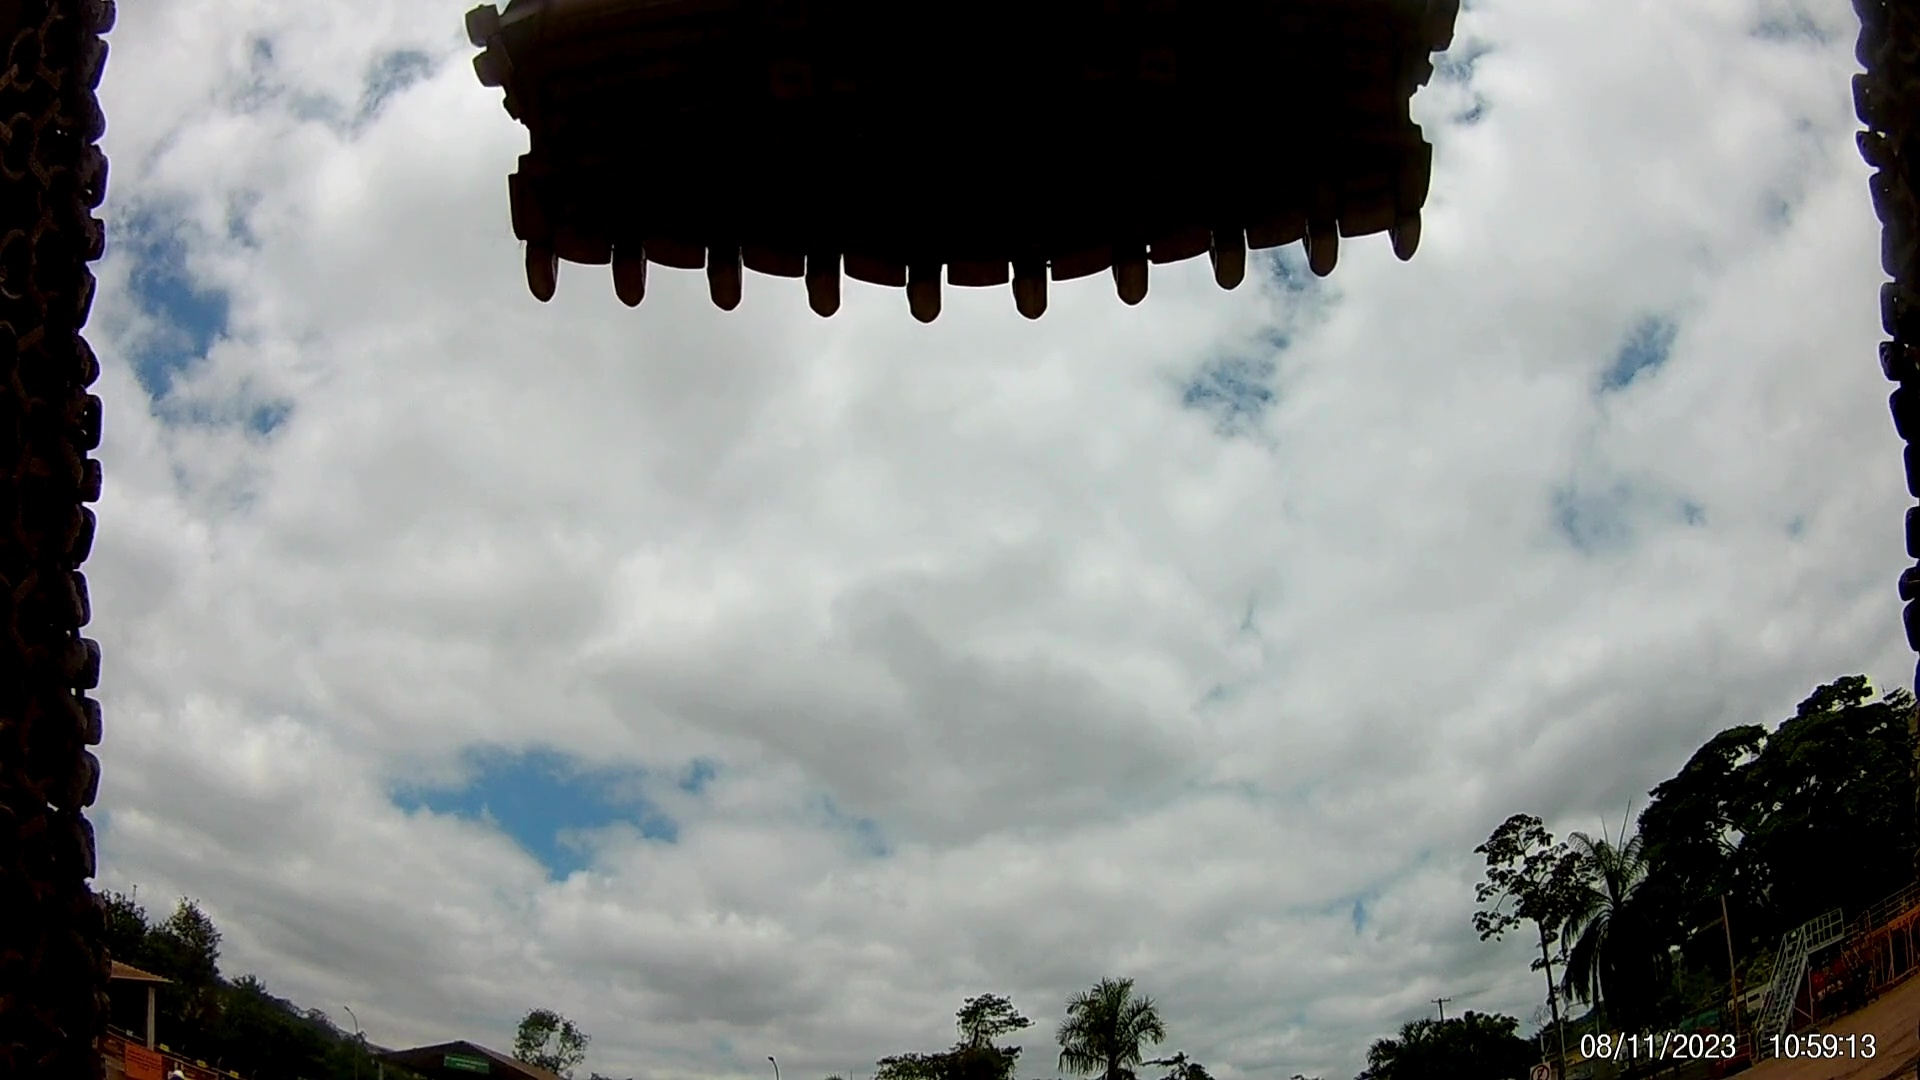FPS: (1097, 198, 1236, 276), (1054, 410, 1197, 479), (1039, 603, 1170, 667), (1104, 117, 1244, 169), (1080, 319, 1213, 372), (1042, 510, 1168, 562), (1044, 775, 1137, 837), (1051, 691, 1156, 745), (1065, 865, 1142, 913), (1063, 926, 1154, 960)
